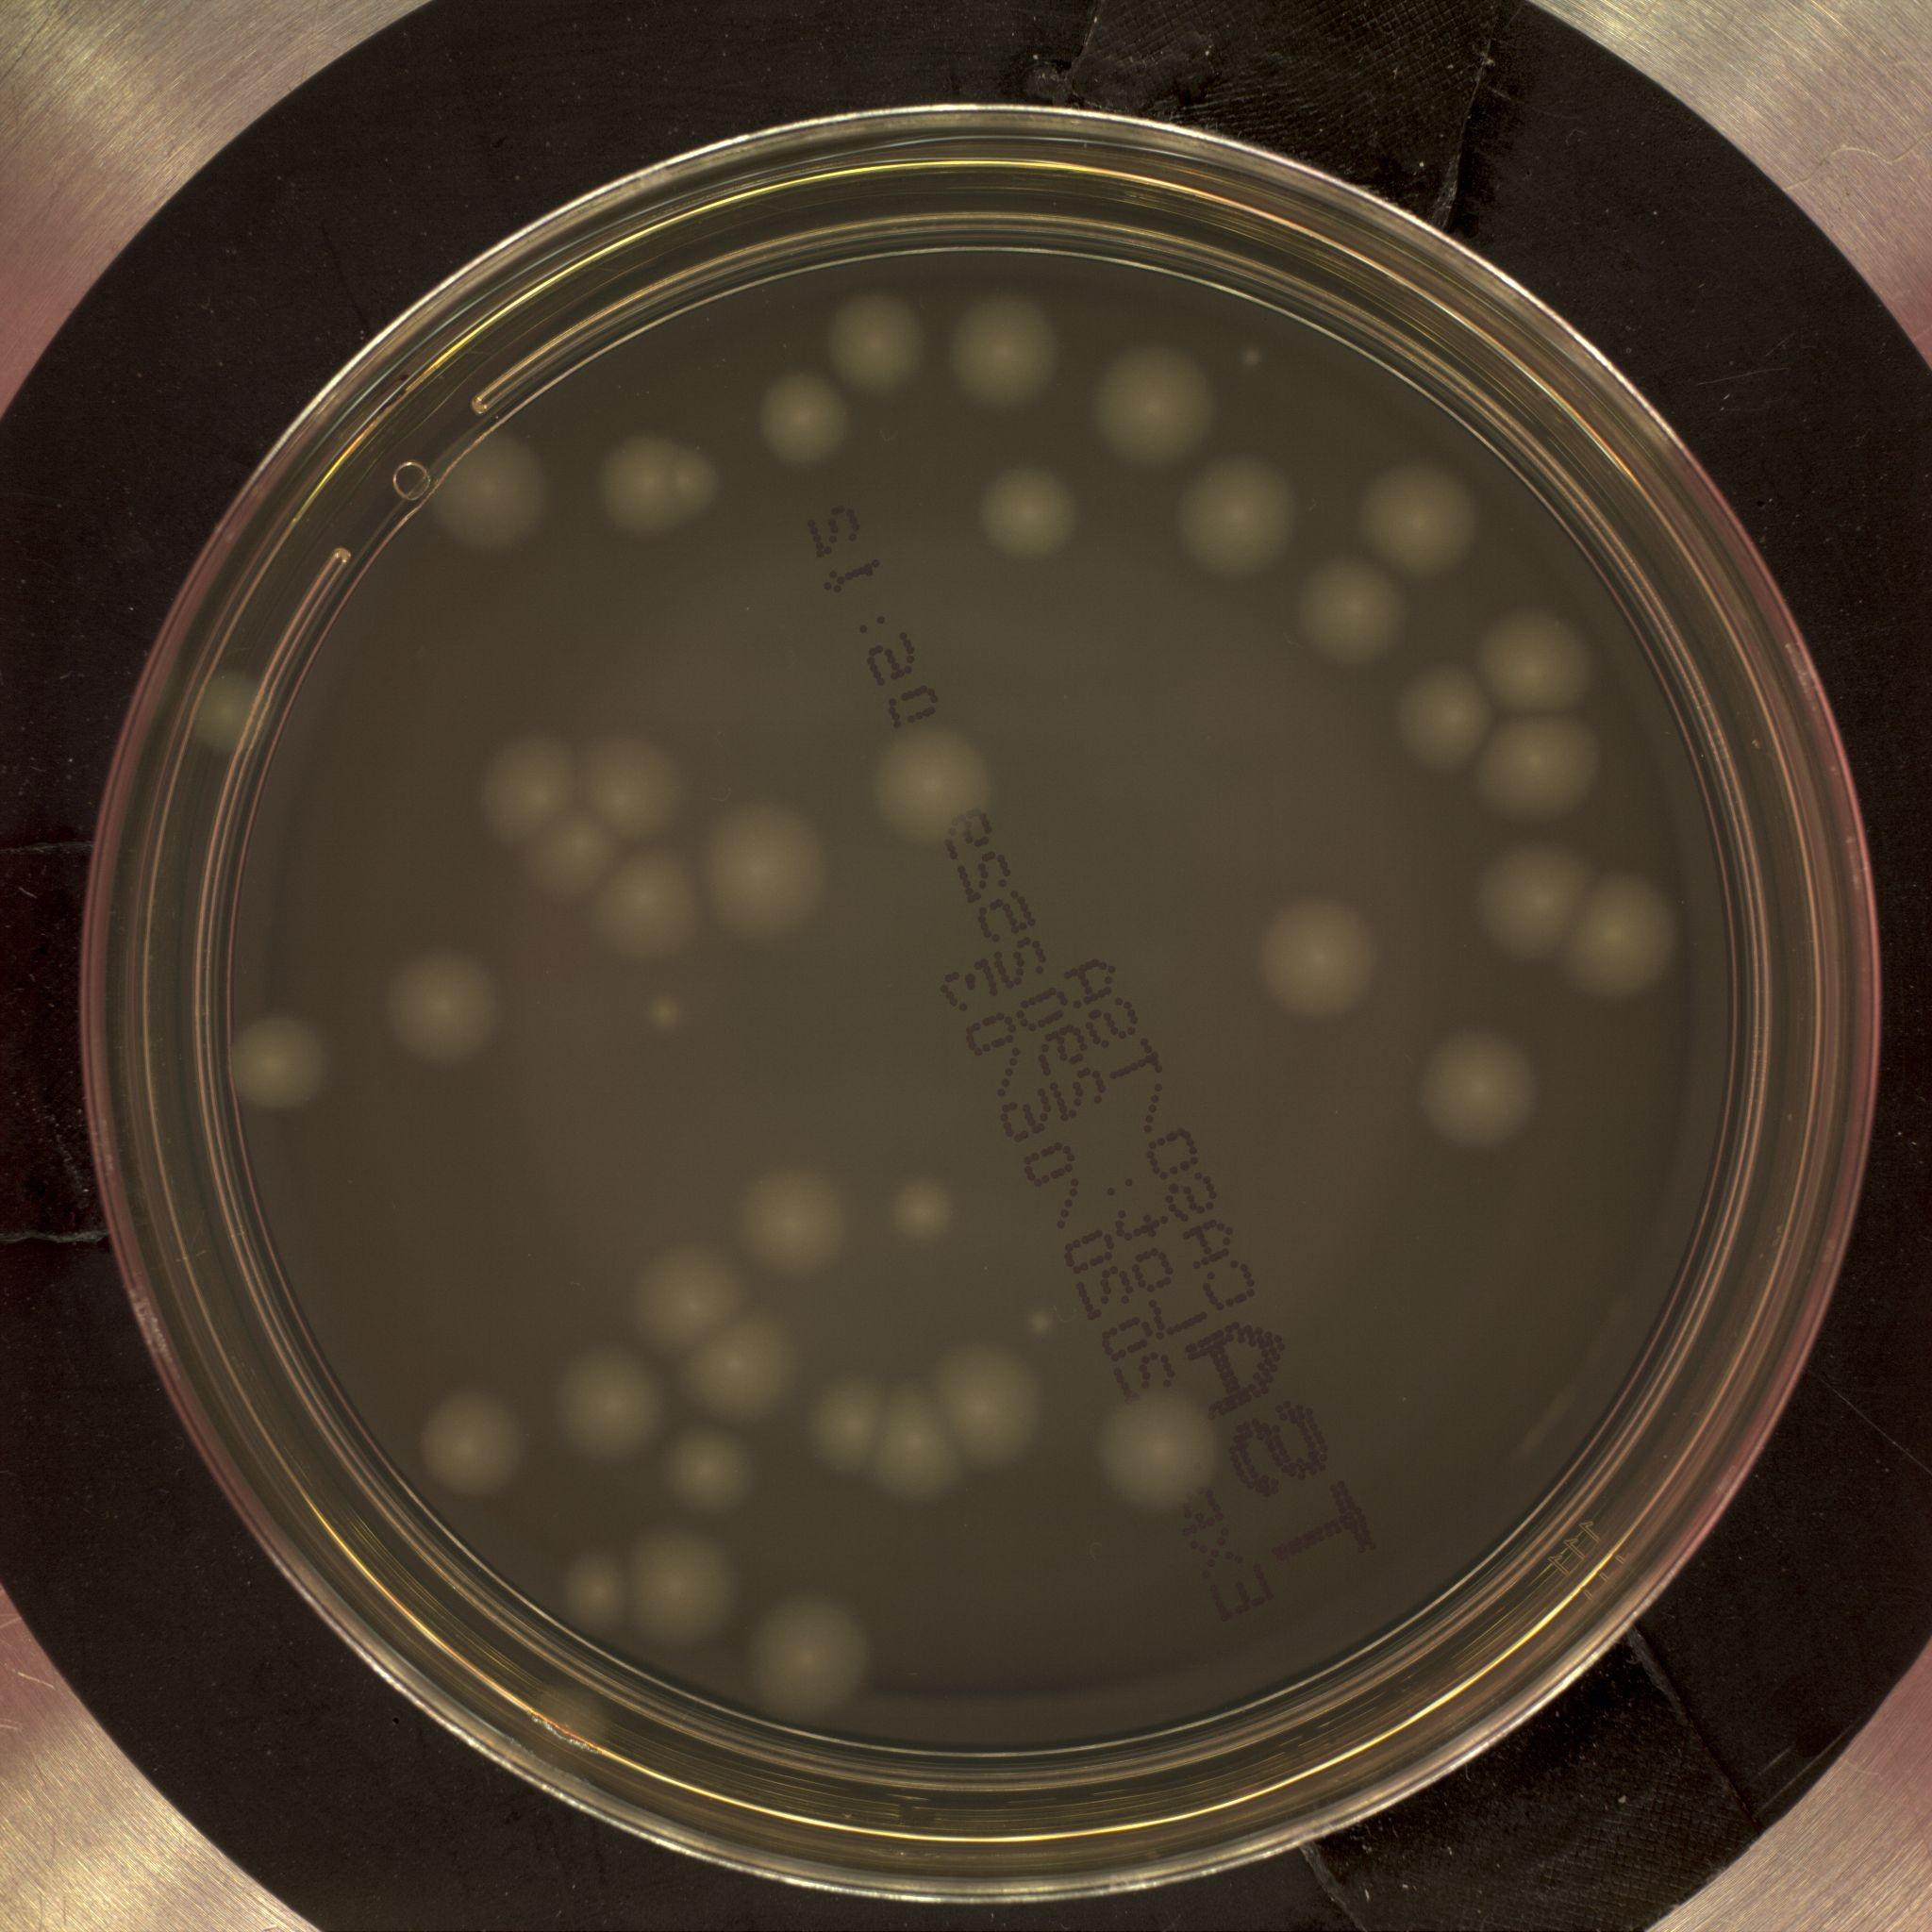e. coli: (1562, 876, 1683, 1007), (428, 426, 550, 552), (750, 1596, 867, 1721), (706, 812, 821, 934), (1419, 1024, 1534, 1145), (1481, 607, 1603, 720), (1104, 1396, 1223, 1511), (1476, 847, 1601, 955), (1267, 901, 1380, 1019), (736, 1168, 856, 1277), (563, 1338, 671, 1460), (1477, 706, 1599, 814), (1368, 458, 1479, 575), (626, 1523, 732, 1645), (925, 1348, 1037, 1461), (600, 433, 718, 540), (863, 1382, 959, 1504), (635, 1247, 740, 1359), (694, 1311, 798, 1422), (1192, 462, 1297, 573), (885, 731, 989, 842), (579, 738, 686, 844), (594, 849, 697, 961), (421, 1389, 524, 1497), (1102, 354, 1205, 460), (1306, 564, 1408, 667), (395, 957, 495, 1062), (952, 306, 1053, 405), (1407, 665, 1502, 770), (522, 807, 621, 904), (662, 1417, 761, 1511), (232, 1024, 329, 1113), (833, 295, 925, 384), (768, 370, 856, 462), (485, 743, 571, 837), (989, 462, 1076, 554), (814, 1373, 890, 1476), (189, 672, 269, 755), (570, 1546, 640, 1631), (899, 1175, 959, 1240)
